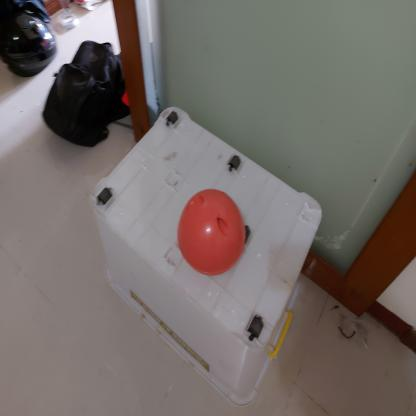red_buoy: (176, 186, 248, 278)
